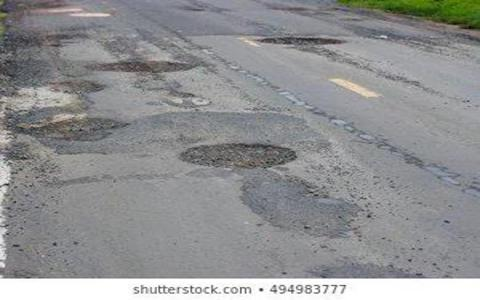patchy roads: (86, 41, 391, 224)
